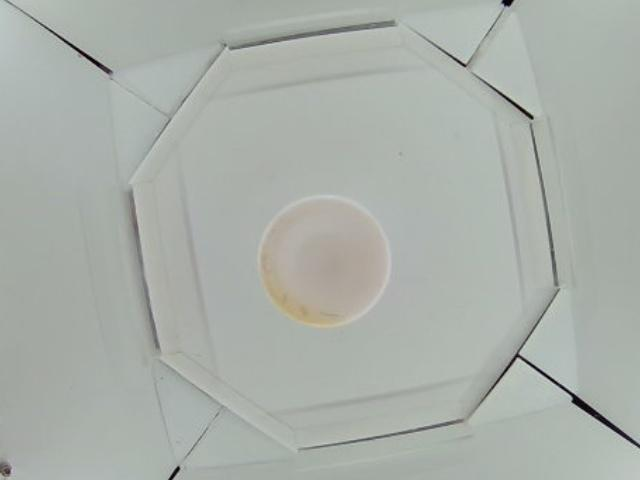Bottle: (259, 194, 393, 329)
